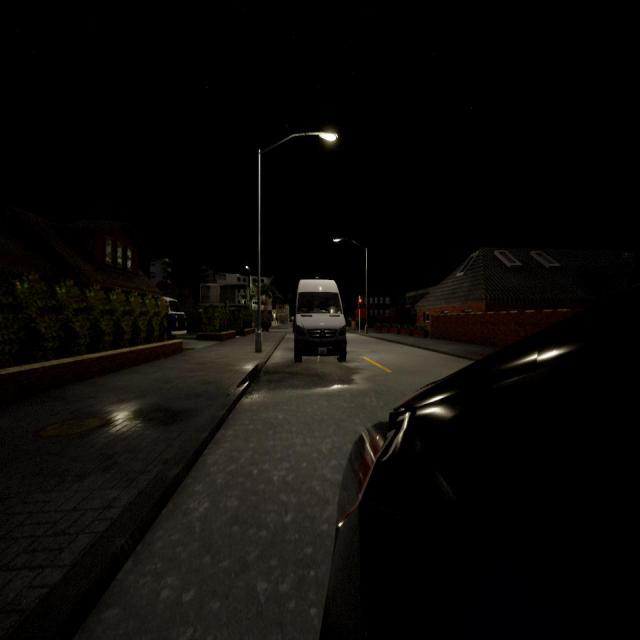Traffic_Signs: (291, 316, 294, 320)
Vehicle: (317, 282, 640, 640), (294, 279, 347, 363), (161, 296, 187, 338)
traffic_light: (358, 298, 362, 309)
